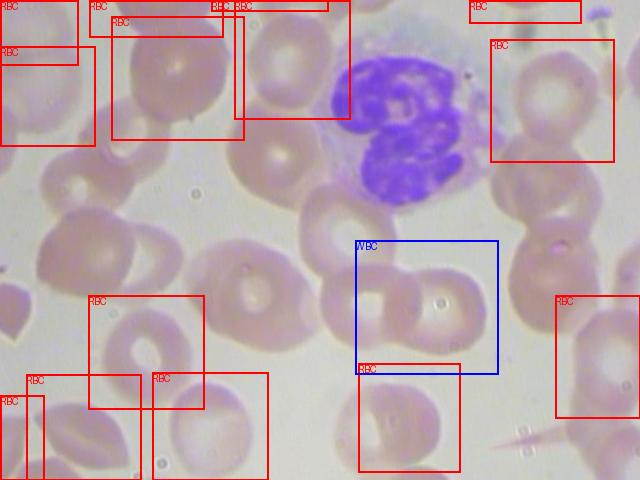RBC: (111, 16, 244, 140), (490, 39, 614, 162), (234, 0, 350, 119), (88, 295, 204, 409), (152, 372, 268, 480), (26, 374, 141, 480), (358, 363, 460, 472), (555, 295, 640, 418), (0, 46, 95, 146), (0, 0, 78, 65), (89, 0, 223, 37), (0, 395, 44, 480), (469, 0, 581, 23), (211, 0, 328, 11)
WBC: (355, 240, 498, 374)
